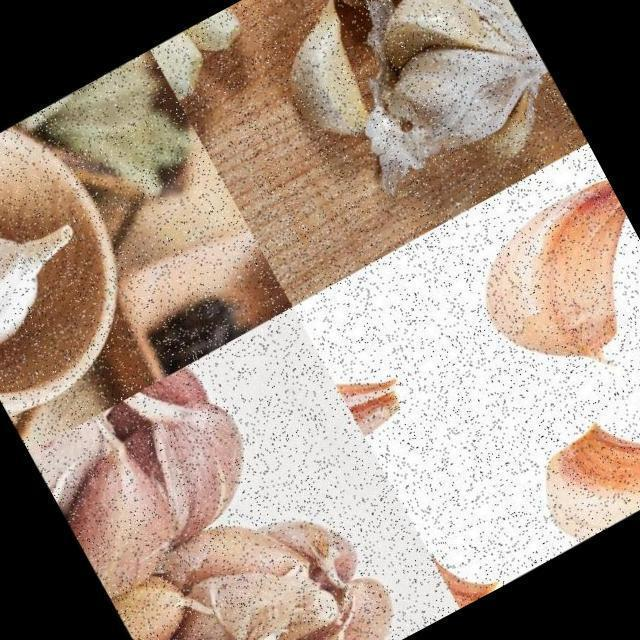garlic: (27, 358, 275, 590), (98, 459, 413, 640), (339, 0, 581, 207), (452, 172, 640, 406), (513, 359, 640, 550), (254, 0, 396, 164), (0, 184, 107, 359), (302, 294, 421, 442), (393, 463, 505, 609), (148, 6, 258, 104), (313, 0, 426, 29)
